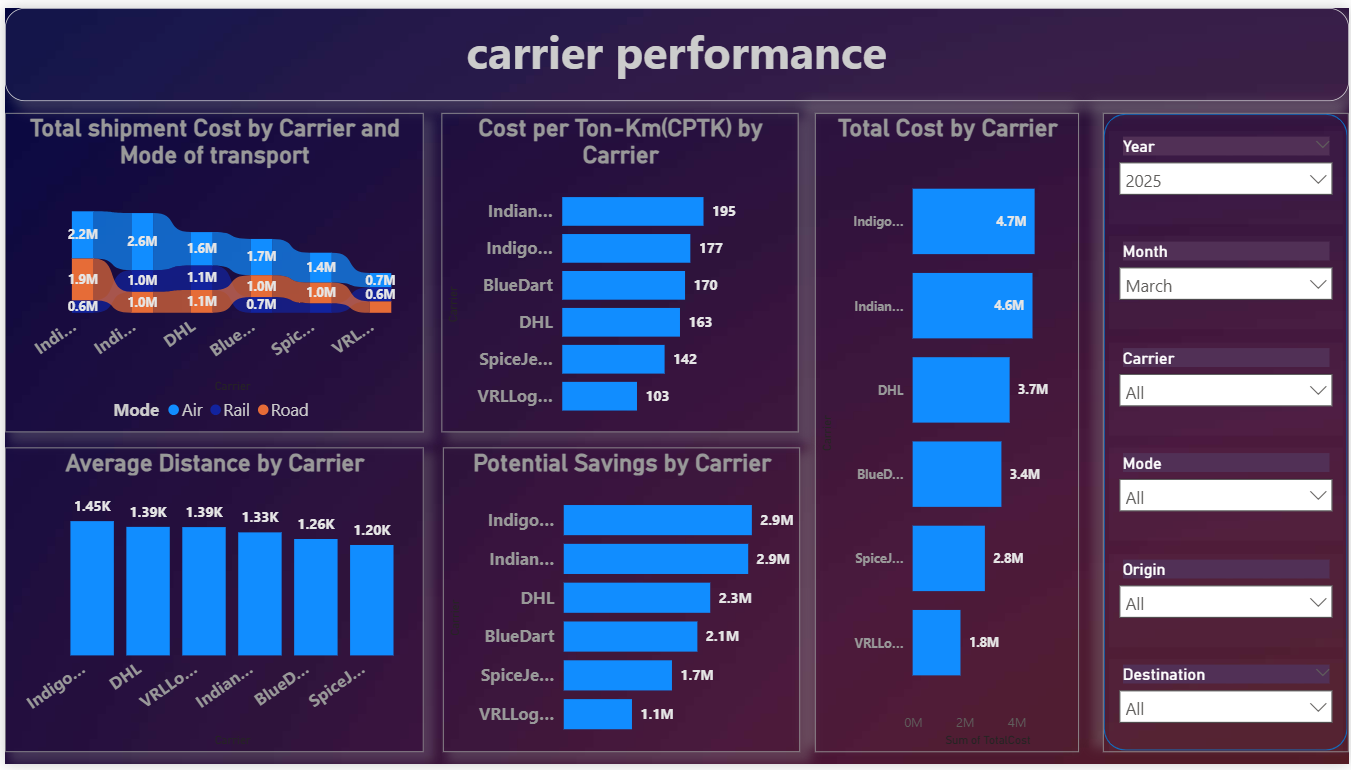

Layout of this report page (visuals, bound fields, positions):
{"tool":"powerbi","page":{"name":"Carrier performance","canvas":[1280,720],"ordinal":1},"visuals":[{"type":"textbox","box":[0,0,1280,88.6],"z":0},{"type":"shape","box":[1045.7,100,234.3,608.6],"z":1000},{"type":"slicer","fields":{"Values":["scenario_full_data_with_cptk.ShipDate.Variation.Date Hierarchy.Year"]},"box":[1051.4,117.1,222.9,88.6],"z":2000},{"type":"slicer","fields":{"Values":["scenario_full_data_with_cptk.ShipDate.Variation.Date Hierarchy.Month"]},"box":[1051.4,217.7,222.9,88.6],"z":3000},{"type":"slicer","fields":{"Values":["scenario_full_data_with_cptk.Carrier"]},"box":[1051.4,318.3,222.9,88.6],"z":4000},{"type":"slicer","fields":{"Values":["scenario_full_data_with_cptk.Mode"]},"box":[1051.4,418.9,222.9,88.6],"z":5000},{"type":"slicer","fields":{"Values":["scenario_full_data_with_cptk.Origin"]},"box":[1051.4,519.4,222.9,88.6],"z":6000},{"type":"slicer","fields":{"Values":["scenario_full_data_with_cptk.Destination"]},"box":[1051.4,620,222.9,88.6],"z":7000},{"type":"clusteredBarChart","title":"Total Cost by Carrier","fields":{"Category":["scenario_full_data_with_cptk.Carrier"],"Y":["Sum(scenario_full_data_with_cptk.TotalCost)"]},"box":[771.4,100,251.4,608.6],"z":8000},{"type":"ribbonChart","title":"Total shipment Cost by Carrier and Mode of transport","fields":{"Category":["scenario_full_data_with_cptk.Carrier"],"Y":["Sum(scenario_full_data_with_cptk.TotalCost)"],"Series":["scenario_full_data_with_cptk.Mode"]},"box":[0,100,398.6,304.3],"z":9000},{"type":"clusteredColumnChart","title":"Average Distance by Carrier","fields":{"Category":["scenario_full_data_with_cptk.Carrier"],"Y":["Avg(scenario_full_data_with_cptk.Distance_km)"]},"box":[0,418.6,398.6,290],"z":10000},{"type":"clusteredBarChart","title":"Cost per Ton-Km(CPTK)  by Carrier","fields":{"Category":["scenario_full_data_with_cptk.Carrier"],"Y":["Sum(scenario_full_data_with_cptk.CPTK_Original)"]},"box":[415.7,100,340,304.3],"z":11000},{"type":"clusteredBarChart","title":"Potential Savings by Carrier","fields":{"Category":["scenario_full_data_with_cptk.Carrier"],"Y":["scenario_full_data_with_cptk.Savings(Scenario 4)"]},"box":[417.1,418.6,340,290],"z":12000}]}

Visuals, with their boxes in screenshot pixels (x1, y1, x2, y2), scaled from the page's 1280x720 canvas onto the 1351x770 screenshot:
textbox: (0,0,1350,95)
shape: (1104,107,1350,758)
slicer - scenario_full_data_with_cptk.ShipDate.Variation.Date Hierarchy.Year: (1110,125,1345,220)
slicer - scenario_full_data_with_cptk.ShipDate.Variation.Date Hierarchy.Month: (1110,233,1345,328)
slicer - scenario_full_data_with_cptk.Carrier: (1110,340,1345,435)
slicer - scenario_full_data_with_cptk.Mode: (1110,448,1345,543)
slicer - scenario_full_data_with_cptk.Origin: (1110,555,1345,650)
slicer - scenario_full_data_with_cptk.Destination: (1110,663,1345,758)
"Total Cost by Carrier" clusteredBarChart: (814,107,1080,758)
"Total shipment Cost by Carrier and Mode of transport" ribbonChart: (0,107,421,432)
"Average Distance by Carrier" clusteredColumnChart: (0,448,421,758)
"Cost per Ton-Km(CPTK)  by Carrier" clusteredBarChart: (439,107,798,432)
"Potential Savings by Carrier" clusteredBarChart: (440,448,799,758)
